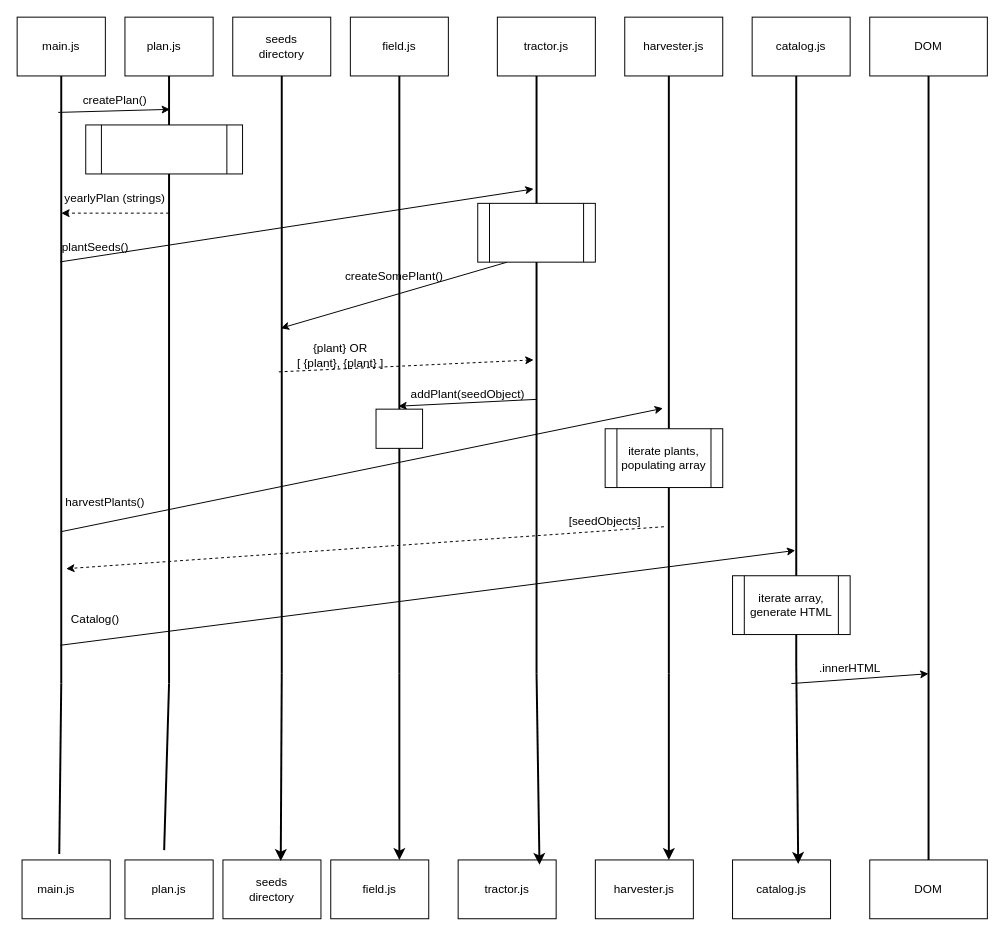
The diagram is 1005 pixels wide and 936 high, and some of its shapes have lost their labels. Here are the shapes that lost their labels. From the top down, the box of each, then its label:
(85, 124, 243, 174): const plan library, construct planArr with randomized indexs
(477, 202, 595, 262): iterating over [yearlyPlan]
(375, 408, 423, 448): [array]
